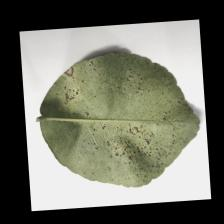canker: (62, 66, 160, 174)
